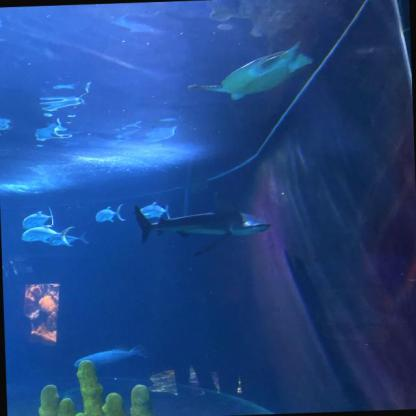fish: (72, 344, 148, 371), (21, 224, 76, 245), (22, 207, 53, 229), (48, 231, 89, 247), (139, 202, 171, 220), (95, 204, 125, 222)
shark: (132, 188, 273, 259)
